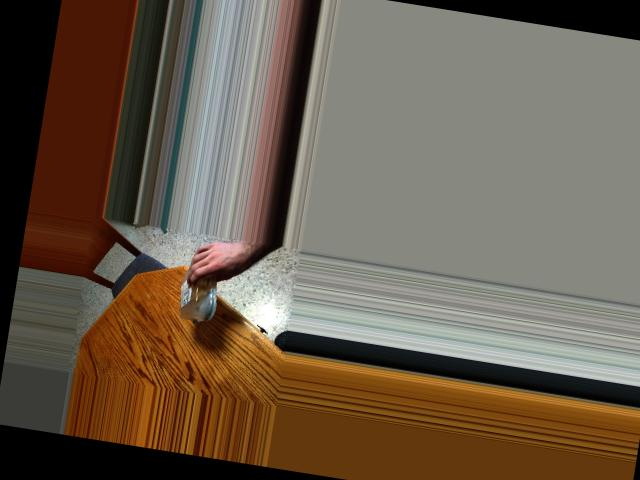cheese: (163, 262, 245, 327)
